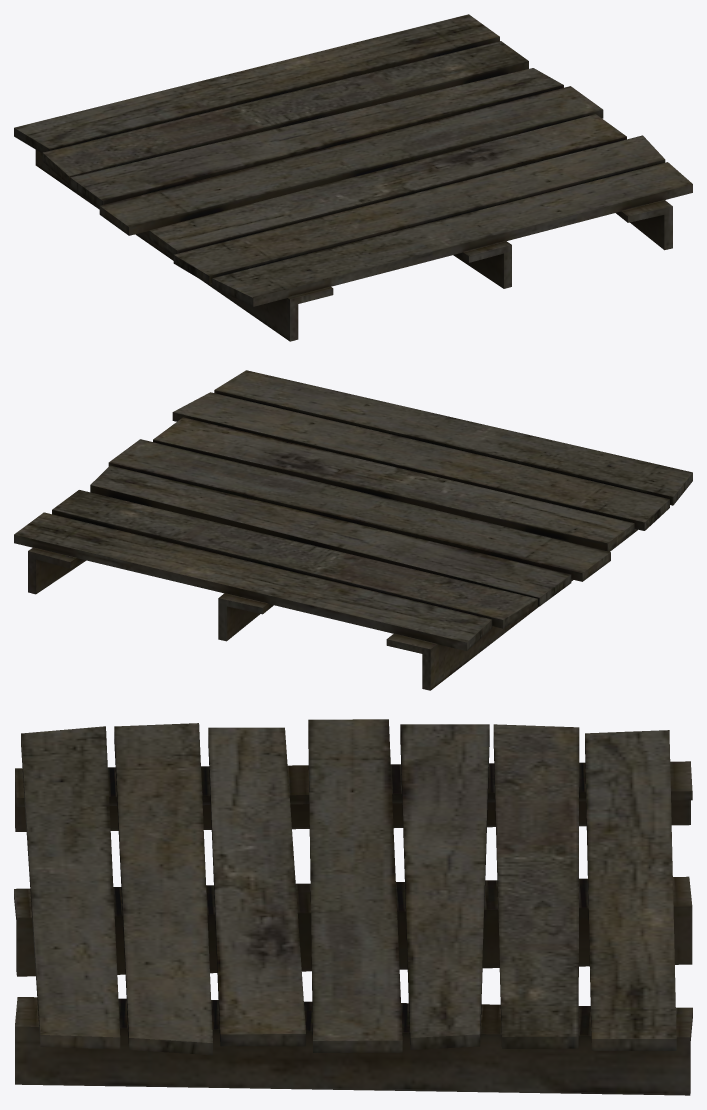
The model's file is CrateBaseSet_02.FBX.
3 renders of one model, top to bottom at view 1: azimuth 30°, elevation 25°; view 2: azimuth 150°, elevation 25°; view 3: azimuth 270°, elevation 25°, orthographic. The views are drawn at different scales.
Visible parts, largest first — view 1: CrateBaseSet_02; view 2: CrateBaseSet_02; view 3: CrateBaseSet_02.
Boxes of the visible parts, box(x1,y1,x2,y2) form: CrateBaseSet_02: box(14, 14, 692, 341); CrateBaseSet_02: box(14, 370, 692, 690); CrateBaseSet_02: box(14, 719, 692, 1095).
Size of the model in its own units: 134 by 13.47 by 119.
